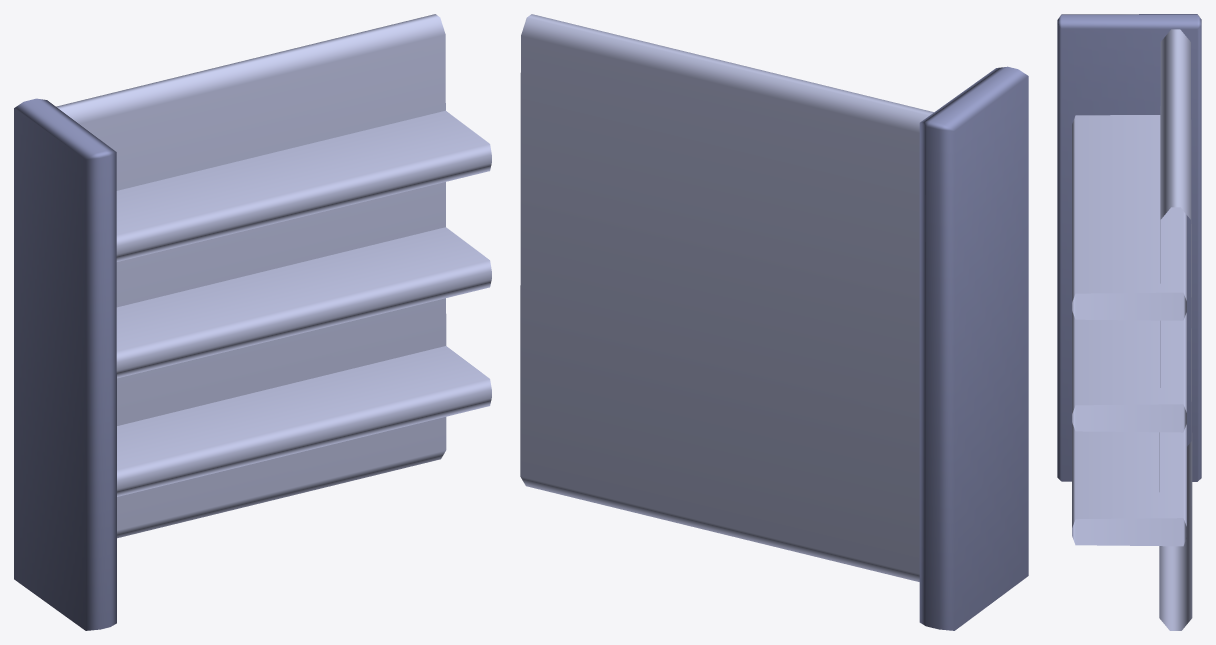
File: Shelf_06.fbx
3 views of the same model, side by side, from view 1: azimuth 30°, elevation 25°; view 2: azimuth 150°, elevation 25°; view 3: azimuth 270°, elevation 25° (orthographic). The views are drawn at different scales.
Visible parts, largest first — view 1: Shelf_06; view 2: Shelf_06; view 3: Shelf_06.
Boxes of the visible parts, <box> form: Shelf_06: <box>14,14,491,630</box>; Shelf_06: <box>520,14,1028,630</box>; Shelf_06: <box>1057,14,1201,630</box>.
Size of the model in its own units: 167 by 184 by 52.83.
